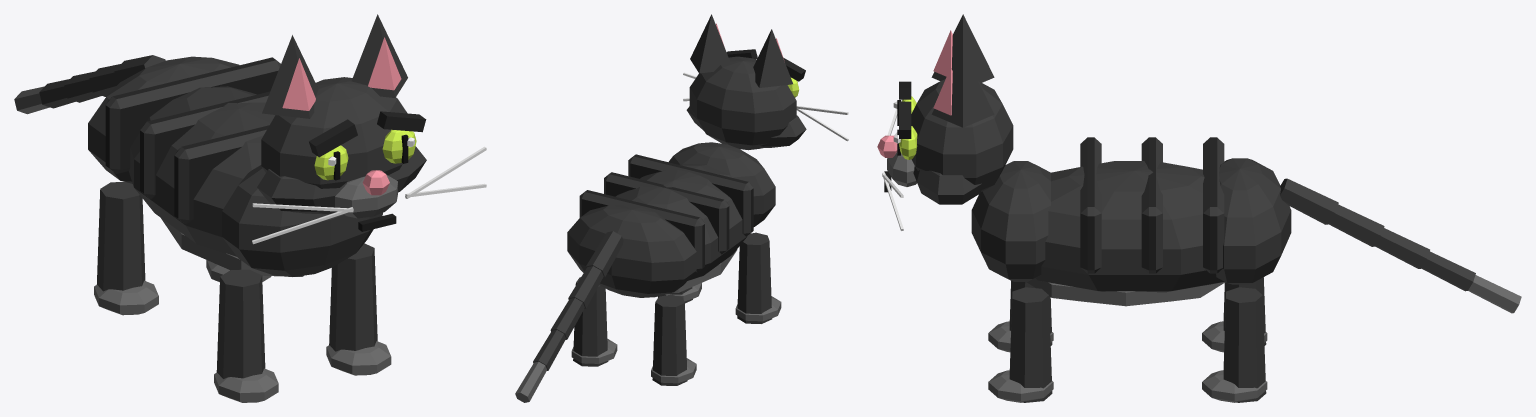
The model's file is katze.glb.
3 views of the same model, side by side, from view 1: azimuth 30°, elevation 25°; view 2: azimuth 150°, elevation 25°; view 3: azimuth 270°, elevation 25° (orthographic). The views are drawn at different scales.
Visible parts, largest first — view 1: body-m, head-m, leg-1-m, leg-3-m, leg-0-m, ear-0-m, ear-1-m, eye-1-m, eye-0-m, tail-2-m, tail-0-m, tail-1-m (+2 smaller); view 2: body-m, head-m, leg-3-m, leg-1-m, leg-2-m, ear-0-m, ear-1-m, tail-0-m, tail-1-m, tail-2-m, tail-4-m, tail-3-m (+1 smaller); view 3: body-m, head-m, leg-2-m, leg-0-m, ear-1-m, ear-0-m, tail-0-m, tail-1-m, tail-2-m, tail-3-m, leg-3-m, tail-4-m (+1 smaller).
Part boxes in pixels (x1,y1,x2,y2): body-m: (88,56,382,276); head-m: (252,77,486,244); leg-1-m: (214,269,278,402); leg-3-m: (94,182,158,315); leg-0-m: (326,243,391,375); ear-0-m: (262,35,318,118); ear-1-m: (351,14,407,97); eye-1-m: (382,129,416,163); eye-0-m: (314,145,348,180); tail-2-m: (64,71,101,102); tail-0-m: (114,55,165,84); tail-1-m: (89,64,120,96); body-m: (567,142,775,297); head-m: (683,49,848,150); leg-3-m: (651,294,696,385); leg-1-m: (735,232,781,323); leg-2-m: (571,277,617,366); ear-0-m: (753,29,792,87); ear-1-m: (690,14,729,73); tail-0-m: (586,231,623,277); tail-1-m: (568,266,603,308); tail-2-m: (550,298,584,339); tail-4-m: (515,361,546,402); tail-3-m: (533,330,565,370); body-m: (971,137,1291,306); head-m: (877,79,1013,230); leg-2-m: (1202,287,1267,402); leg-0-m: (988,287,1053,402); ear-1-m: (931,51,994,127); ear-0-m: (931,14,994,82); tail-0-m: (1280,178,1338,224); tail-1-m: (1329,204,1384,246); tail-2-m: (1375,228,1429,268); tail-3-m: (1421,251,1475,291); leg-3-m: (1202,277,1267,352); tail-4-m: (1468,275,1521,313).
Bounding box in the file's own units: 1.37 × 2.15 × 3.68.
